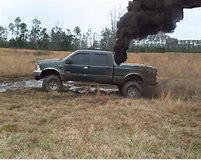smoke: (113, 1, 201, 62)
